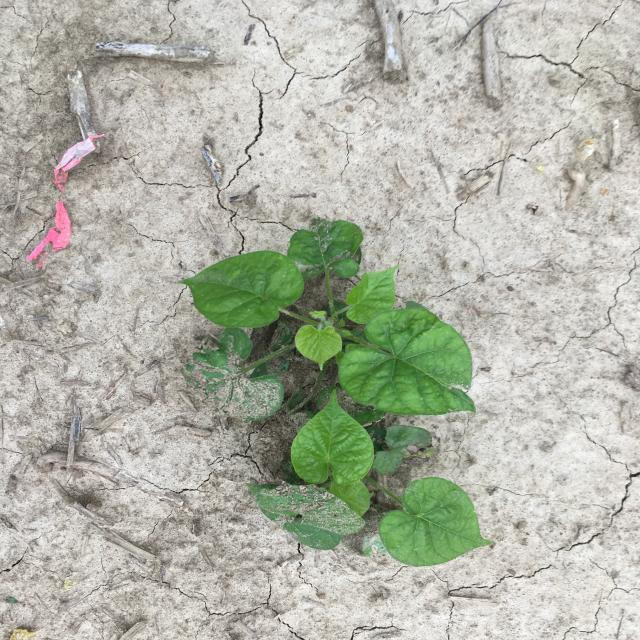MorningGlory: (178, 217, 477, 423), (243, 390, 494, 569)
